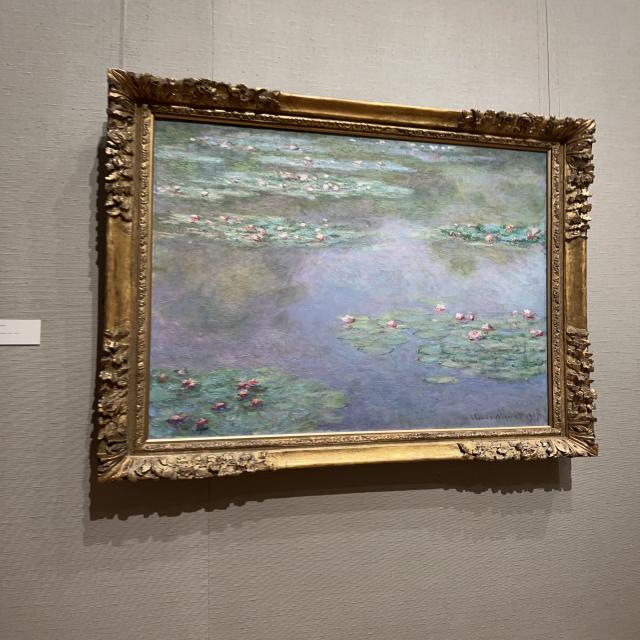lilies: (154, 124, 545, 435)
